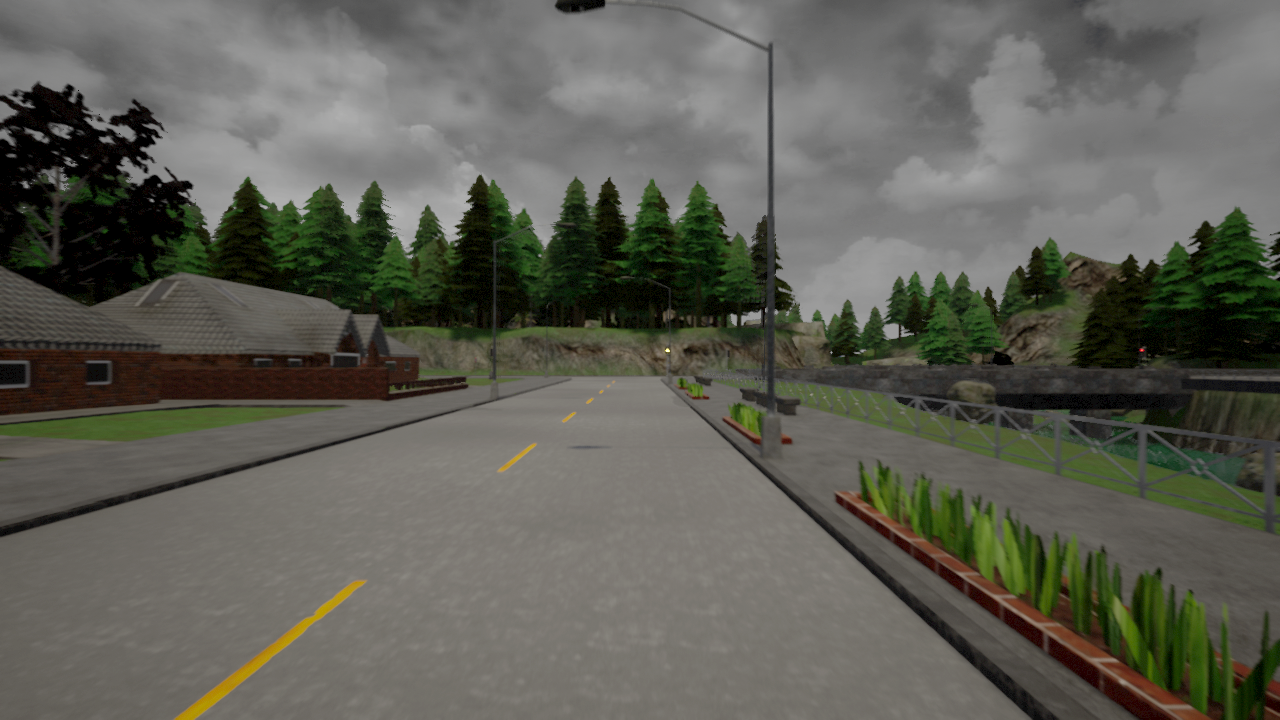yellow: (664, 344, 671, 357)
